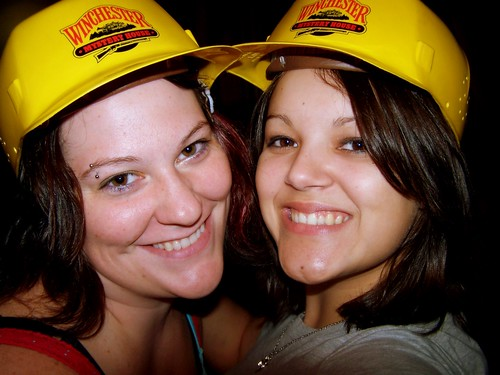person hardhat: (211, 2, 484, 375), (1, 1, 253, 375)
